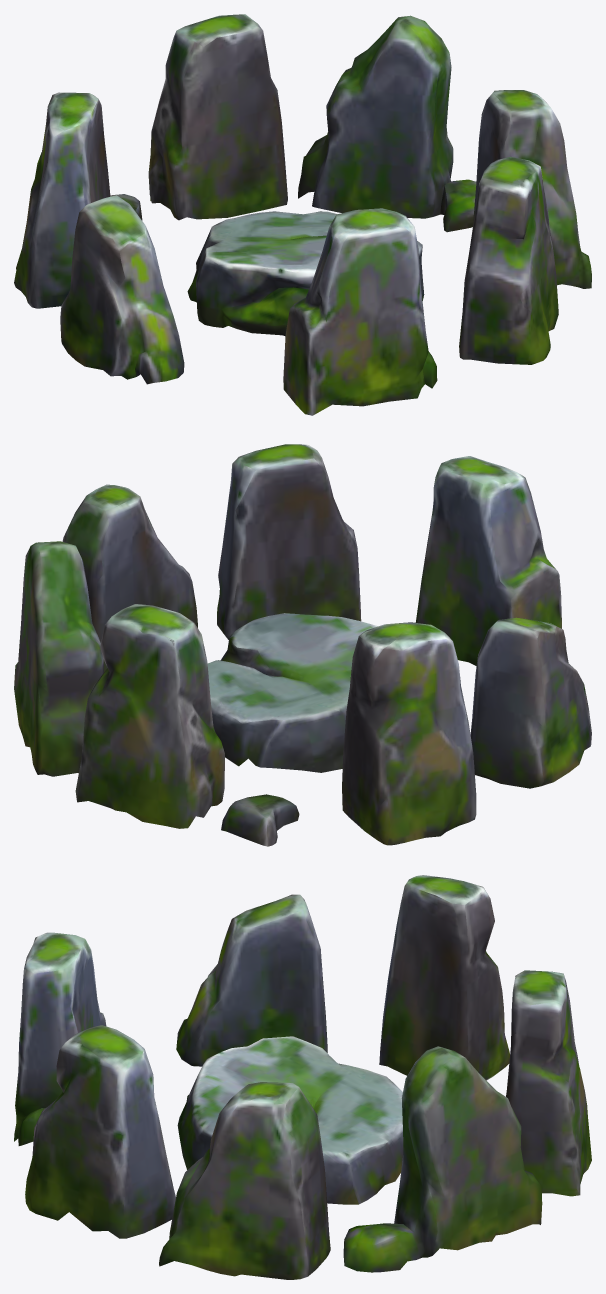
File: stones_b.glb
3 renders of one model, top to bottom at view 1: azimuth 30°, elevation 25°; view 2: azimuth 150°, elevation 25°; view 3: azimuth 270°, elevation 25°, orthographic. The views are drawn at different scales.
Parts seen in each view (by area): view 1: world; view 2: world; view 3: world.
Part boxes in pixels (<box>): world: <box>14,14,591,415</box>; world: <box>14,444,591,846</box>; world: <box>14,875,591,1279</box>.
Size of the model in its own units: 0.9979 by 0.3539 by 0.9712.
Materials: 1 (1 with a texture image).
